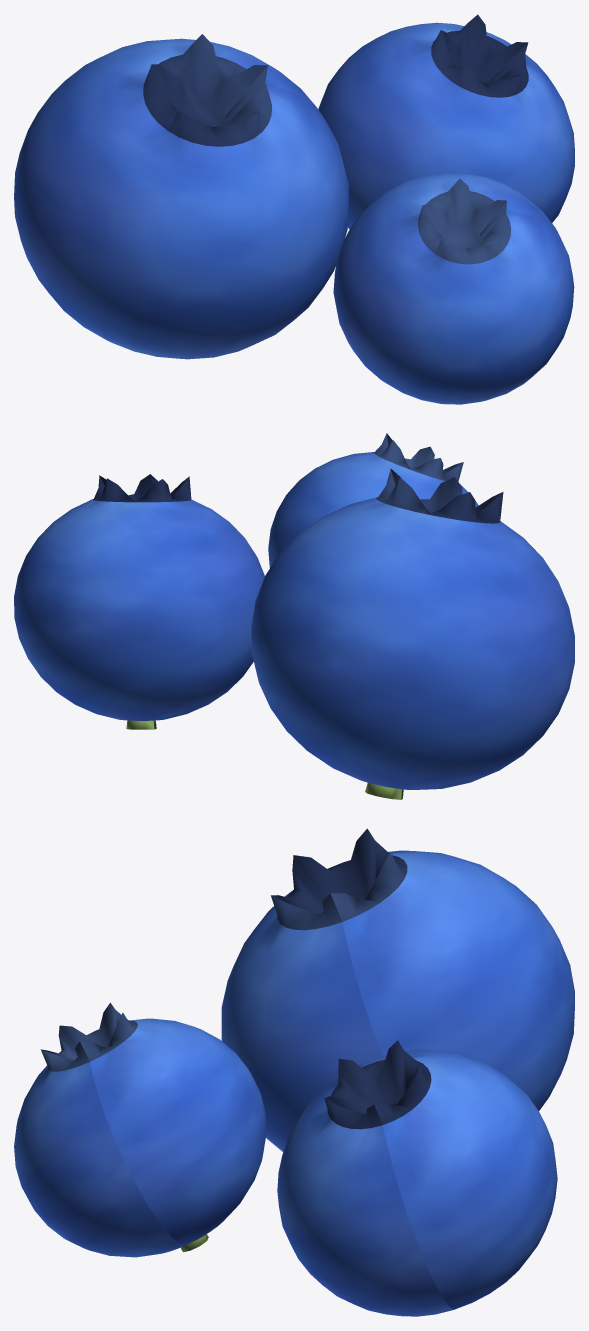
File: NP_Blueberry_Harvest.fbx
The picture shows the model from 3 angles, top to bottom: view 1: azimuth 30°, elevation 25°; view 2: azimuth 150°, elevation 25°; view 3: azimuth 270°, elevation 25°; orthographic projection. The views are drawn at different scales.
Parts seen in each view (by area): view 1: NP_Blueberry_Harvest; view 2: NP_Blueberry_Harvest; view 3: NP_Blueberry_Harvest.
Part boxes in pixels (left/top/right/bottom): NP_Blueberry_Harvest: left=14, top=14, right=574, bottom=404; NP_Blueberry_Harvest: left=14, top=433, right=574, bottom=799; NP_Blueberry_Harvest: left=14, top=828, right=574, bottom=1316.
Bounding box in the file's own units: 50.88 × 28.08 × 43.53.
Materials: 1 (1 with a texture image).
